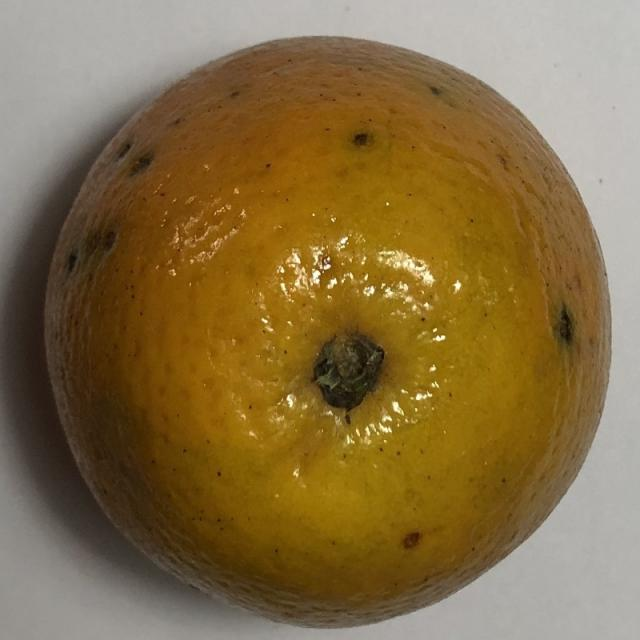blackspot: (15, 28, 624, 634)
